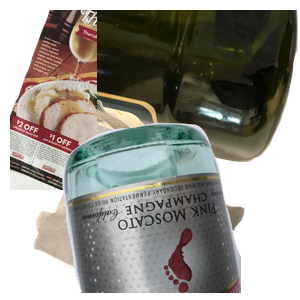glass: (60, 120, 300, 300)
paper: (10, 10, 224, 190)
plastic: (97, 10, 300, 165)
trash: (31, 149, 268, 300)
